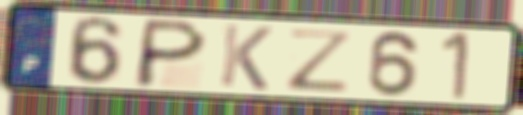1: (438, 31, 471, 103)
6: (67, 14, 129, 88), (367, 28, 423, 99)
K: (216, 21, 275, 93)
P: (130, 17, 212, 91)
Z: (285, 27, 358, 94)
